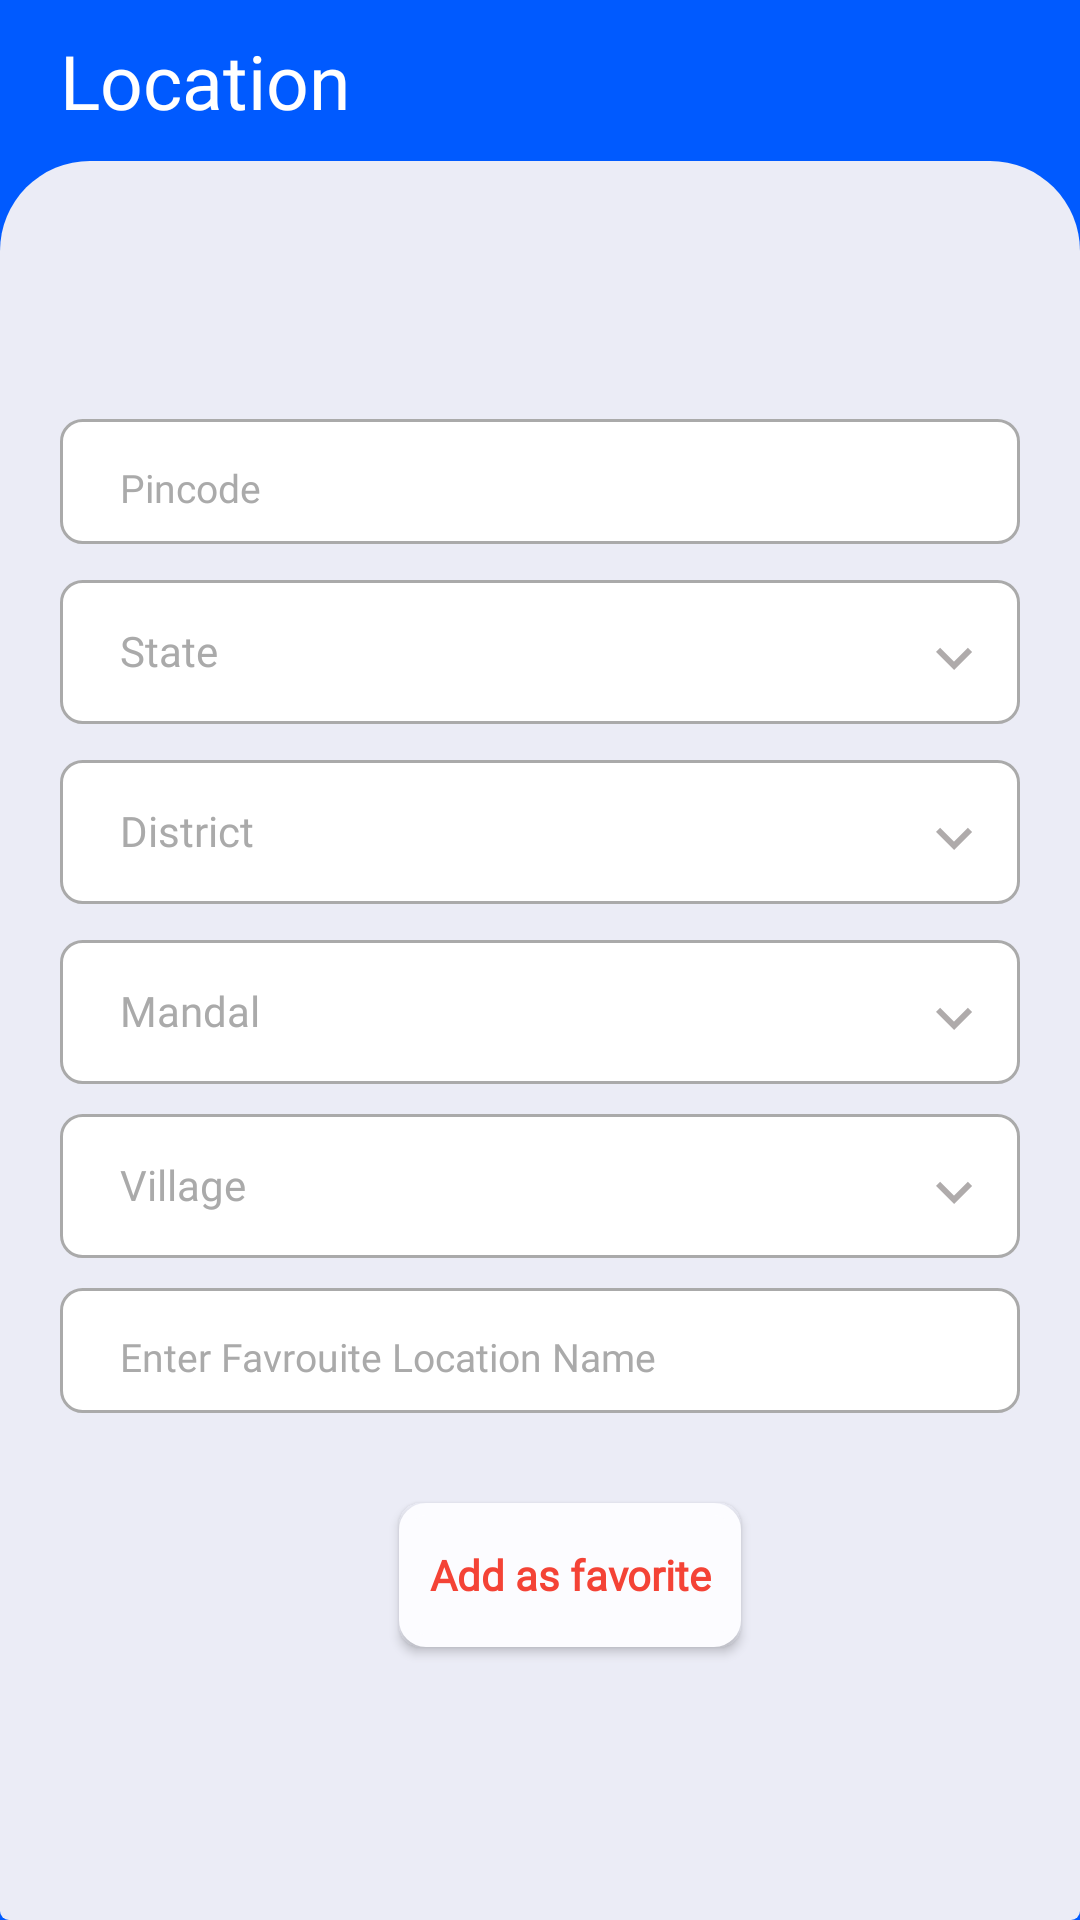

Icons on this 1080*1920 Android screen, each with its box as [x1=x1, y1=y1, x2=x2, y2=y2]:
down arrow: [x1=936, y1=648, x2=972, y2=670], [x1=936, y1=828, x2=972, y2=850], [x1=936, y1=1008, x2=972, y2=1030], [x1=936, y1=1182, x2=972, y2=1204]
